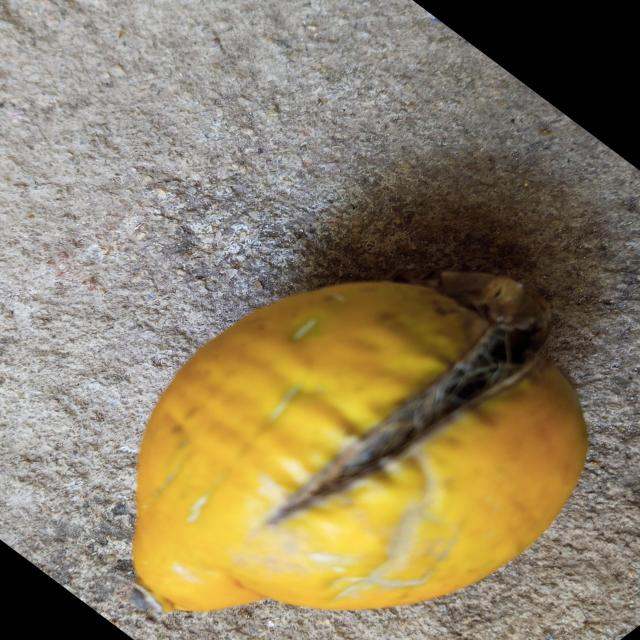damaged: (133, 272, 587, 612)
